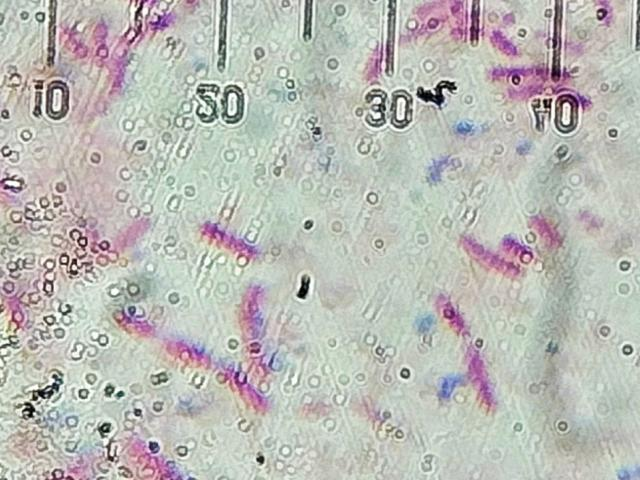E. coli: (462, 347, 503, 423), (453, 233, 513, 278), (122, 436, 183, 480), (235, 285, 277, 347), (168, 333, 218, 376), (205, 215, 258, 255), (225, 369, 270, 414), (111, 307, 156, 351), (106, 215, 152, 254), (493, 59, 568, 80), (12, 286, 39, 342), (513, 80, 580, 102), (435, 296, 477, 330), (63, 25, 91, 63), (528, 212, 558, 242), (109, 53, 134, 87), (488, 23, 510, 54), (452, 3, 469, 42), (407, 0, 443, 18), (365, 42, 382, 80), (501, 229, 525, 255), (152, 6, 177, 30), (89, 17, 106, 47)
